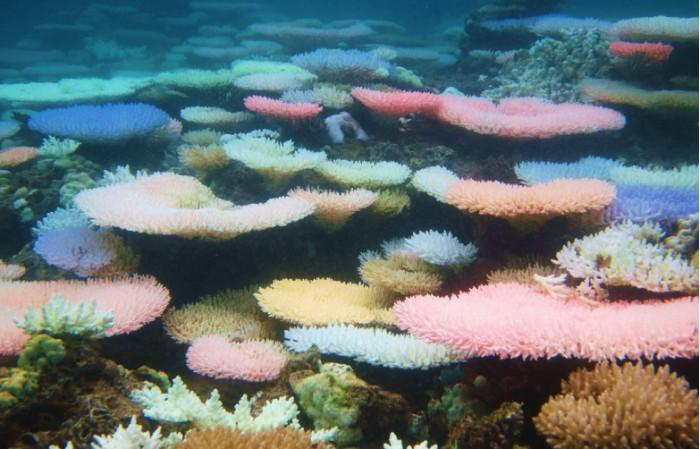bleached_corals: (217, 120, 413, 212), (126, 368, 303, 449), (282, 317, 464, 377), (0, 71, 155, 108), (516, 156, 695, 186), (12, 291, 114, 341), (359, 231, 478, 270), (315, 158, 412, 190), (90, 417, 183, 449), (403, 230, 480, 267), (409, 157, 462, 204), (612, 164, 699, 190), (234, 70, 318, 93), (154, 68, 236, 90), (231, 56, 305, 76), (180, 106, 254, 125)
